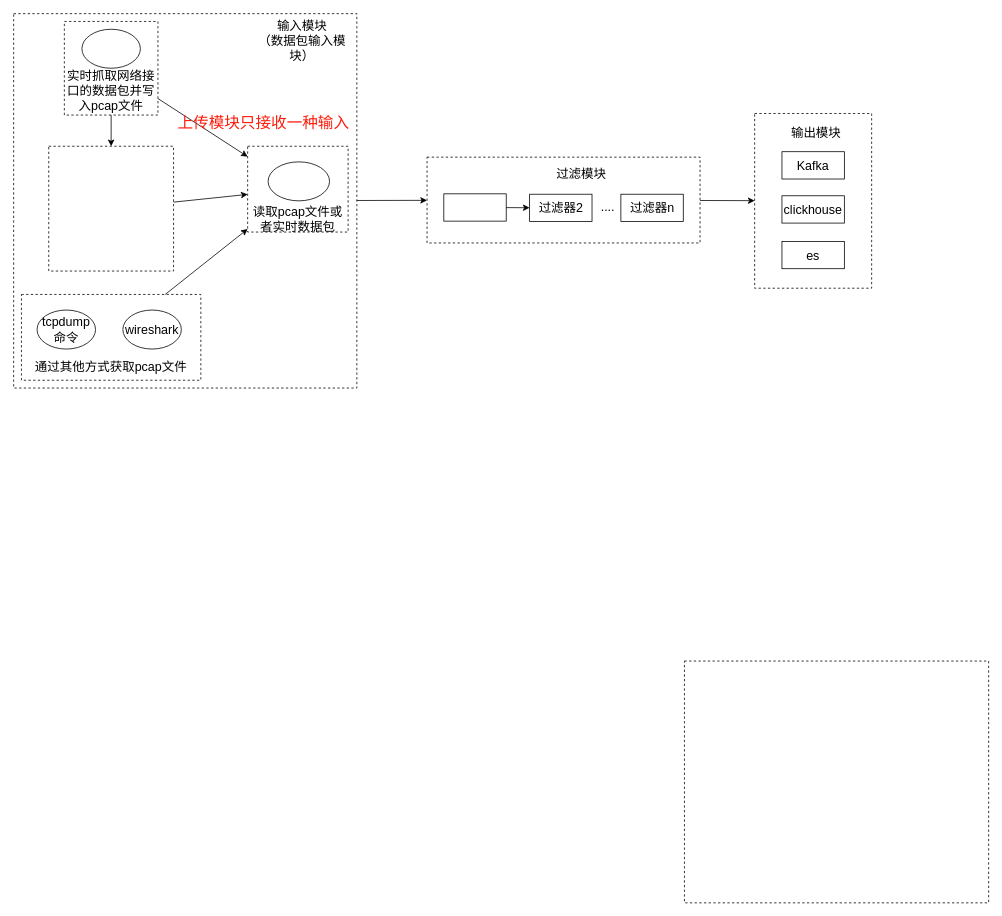
Some shapes in this 1002 by 916 pixel diagram are drawn without their labels. Here are the shapes that lost their labels. From the top down, the centre of each, then its label:
At (110,48): "抓取模块".
At (298,181): "上传模块".
At (111,208): "2023-1-20-10.pcap 2023-1-20-11.pcap 2023-1-20-12.pcap .... pcap文件，如按照分钟存储".
At (474,207): "过滤器1".
